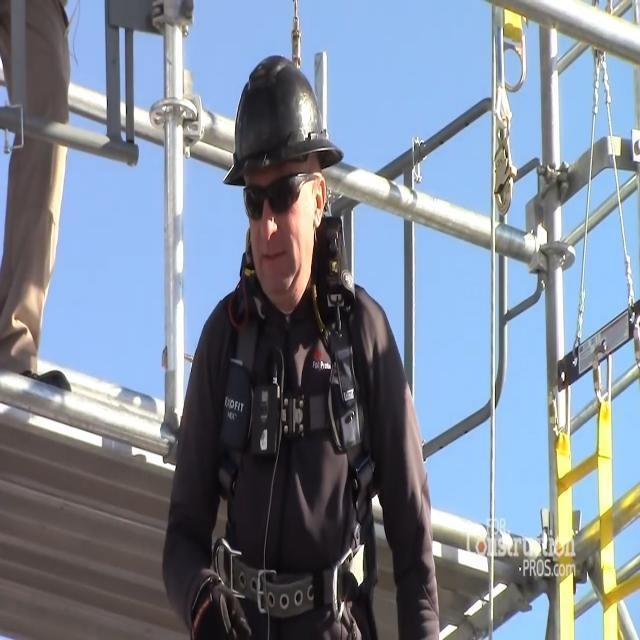Arnes_seguridad: (204, 169, 387, 640)
